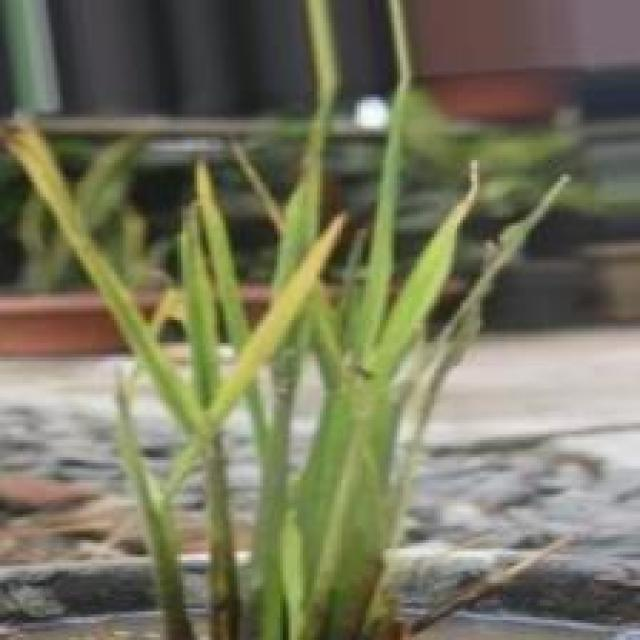Unhealthy: (273, 211, 351, 324), (0, 109, 50, 165)
